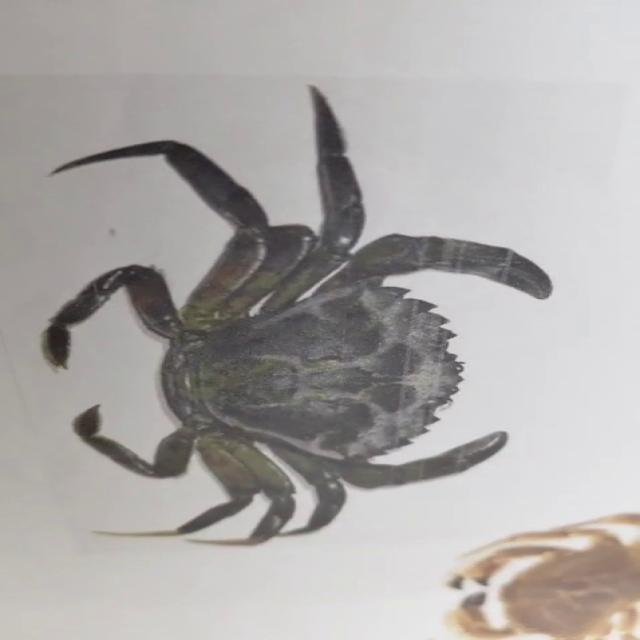egc: (43, 87, 552, 544)
